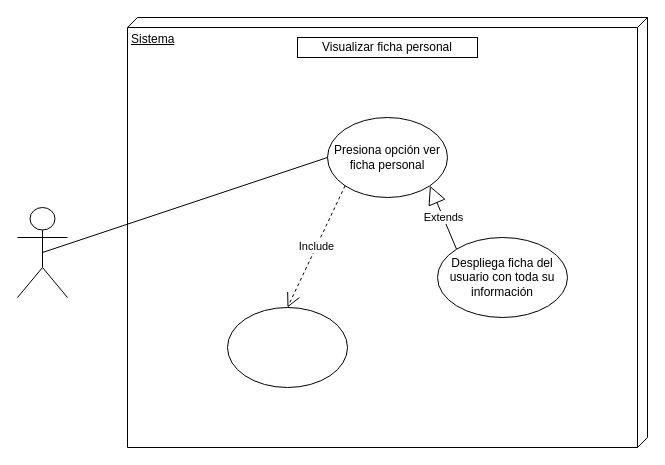
The diagram is 665 pixels wide and 465 high, and some of its shapes have lost their labels. Here are the shapes that lost their labels. From the top down, the centre of each, then its label:
(42,252): Paciente
(287,347): Accede a ficha
